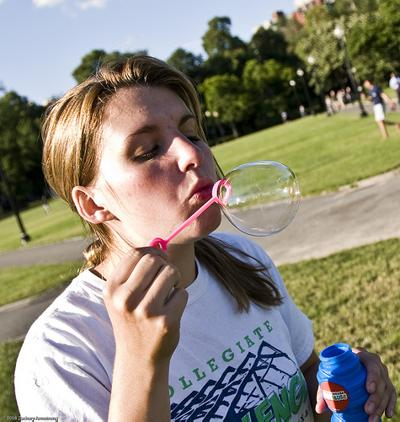person: (13, 57, 398, 422)
